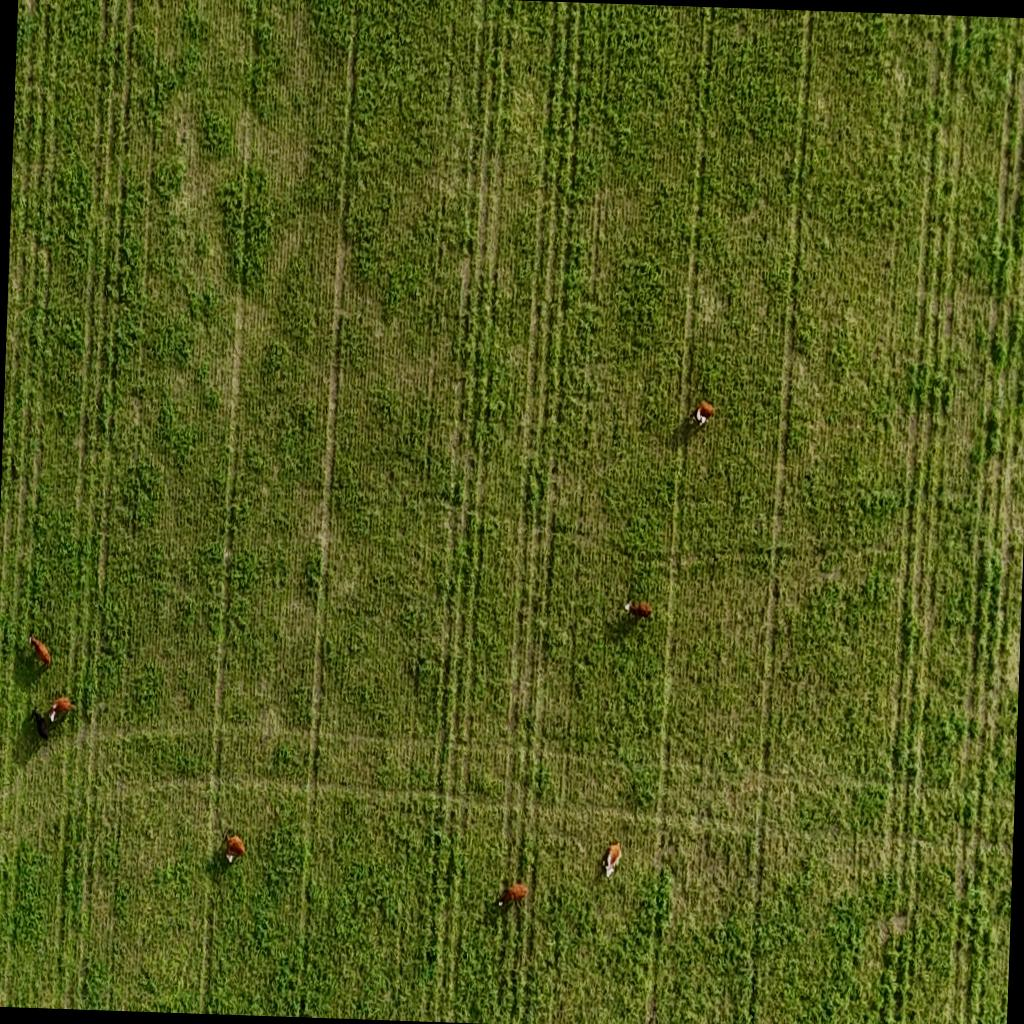cow: (602, 838, 624, 882), (28, 633, 52, 668), (497, 882, 527, 910), (48, 696, 76, 726), (622, 598, 652, 624), (30, 707, 52, 742), (224, 832, 246, 864), (692, 403, 710, 428)
